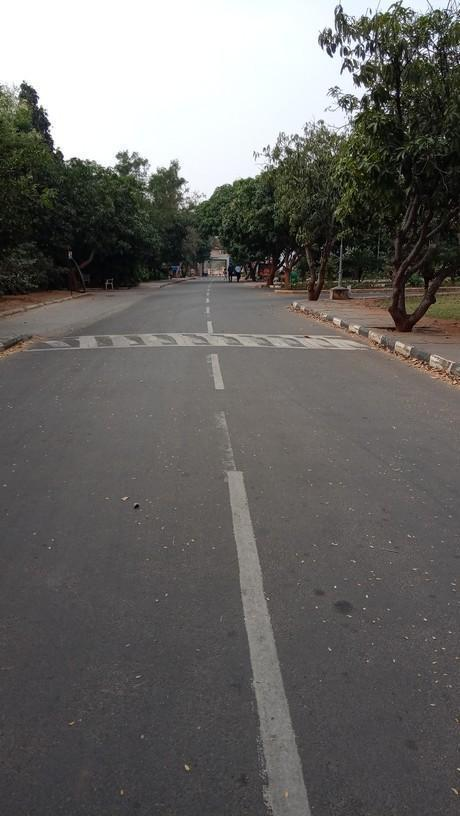speedbreaker: (22, 326, 380, 355)
